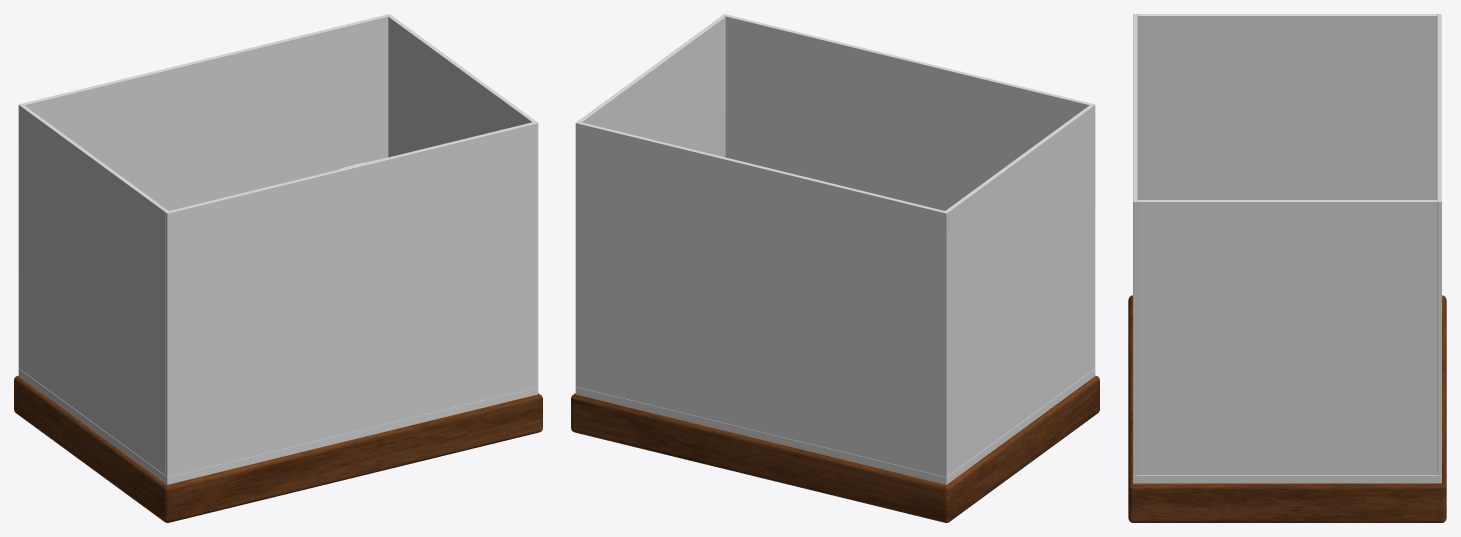
File: Tanks.fbx
The picture shows the model from 3 angles, left to right: view 1: azimuth 30°, elevation 25°; view 2: azimuth 150°, elevation 25°; view 3: azimuth 270°, elevation 25°; orthographic projection. The views are drawn at different scales.
Visible parts, largest first — view 1: Cube.003, Cube.002; view 2: Cube.003, Cube.002; view 3: Cube.003, Cube.002.
Part boxes in pixels (<box>): Cube.003: <box>18,14,538,484</box>; Cube.002: <box>14,375,542,522</box>; Cube.003: <box>575,14,1095,484</box>; Cube.002: <box>571,375,1099,522</box>; Cube.003: <box>1133,14,1441,483</box>; Cube.002: <box>1128,295,1446,522</box>.
Bounding box in the file's own units: 0.5 × 0.3901 × 0.3505.
Materials: 4 (1 with a texture image).
